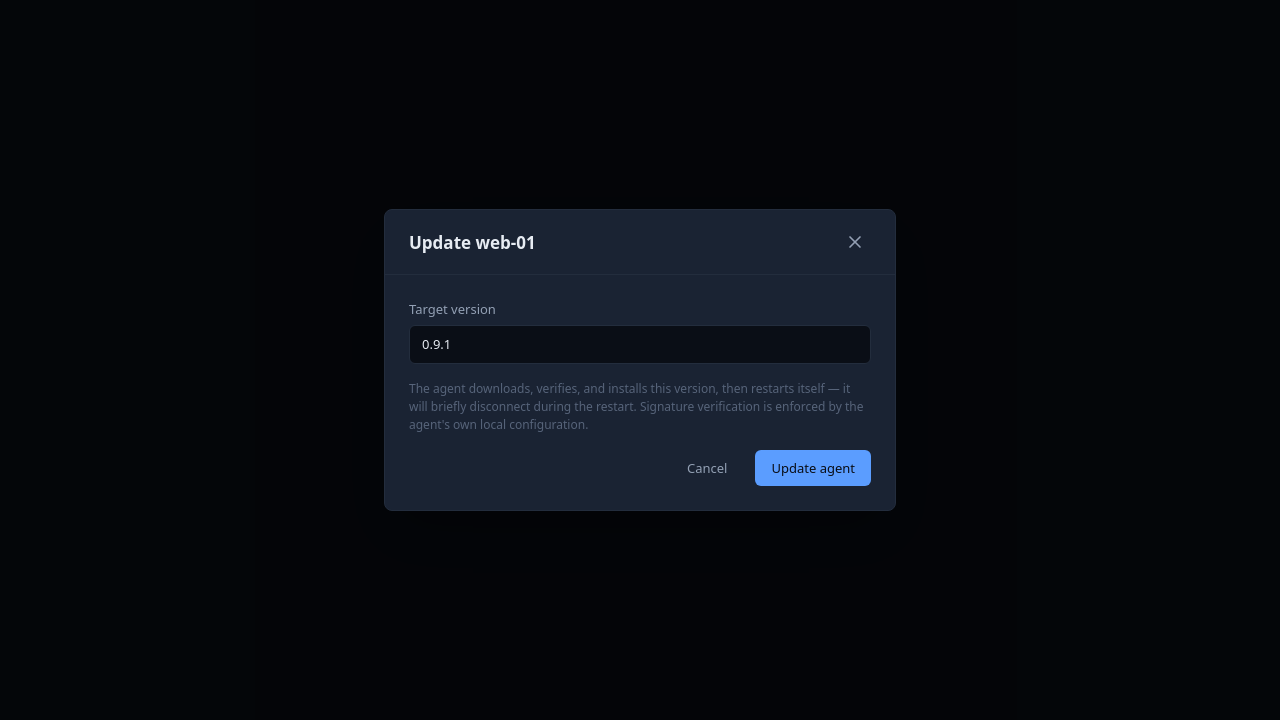
Test case: UpdateAgentModal › shows the server's error and does not close on failure
Click the button "Update agent": (813, 468) 756,450 -> 871,486
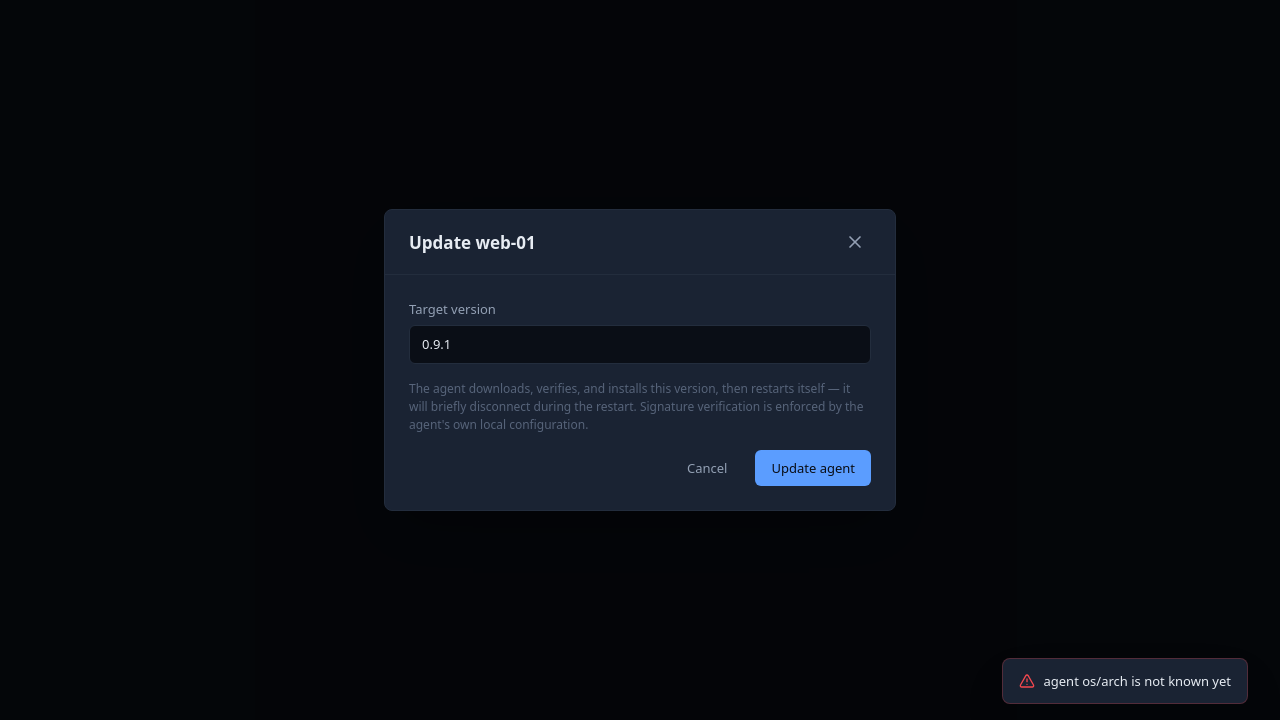
Now the text "agent os/arch is not known yet" is shown, box 1002,658 -> 1248,704
